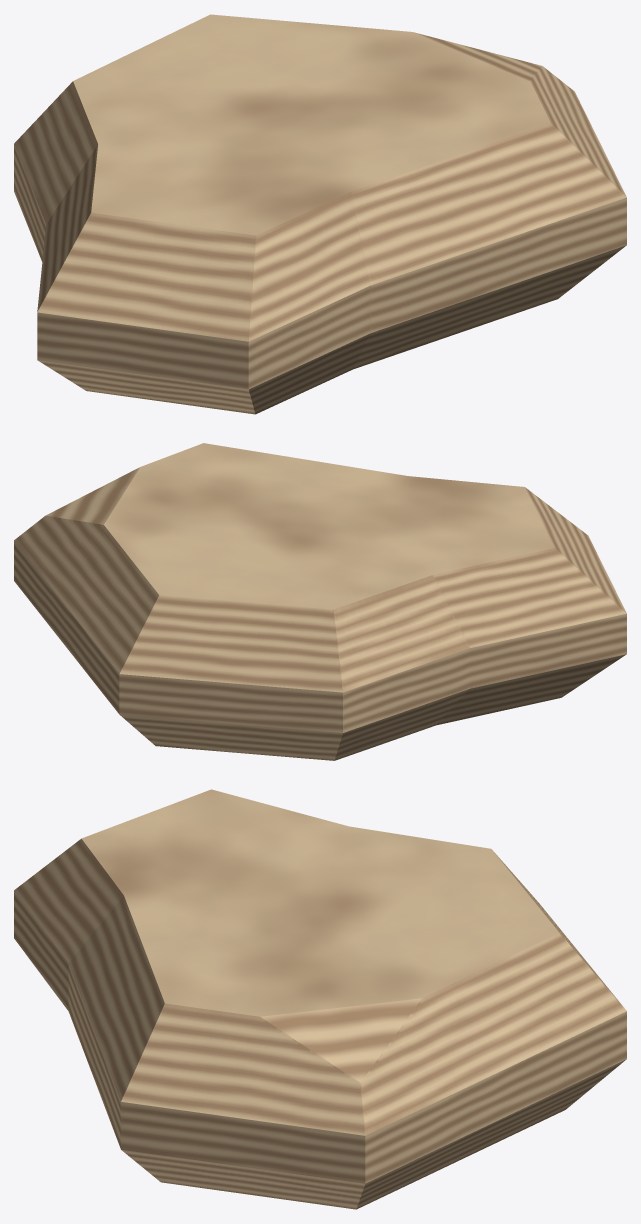
File: boulder.glb
The picture shows the model from 3 angles, top to bottom: view 1: azimuth 30°, elevation 25°; view 2: azimuth 150°, elevation 25°; view 3: azimuth 270°, elevation 25°; orthographic projection. The views are drawn at different scales.
Parts seen in each view (by area): view 1: rock_largeE; view 2: rock_largeE; view 3: rock_largeE.
Boxes of the visible parts, x1,y1,x2,y2 form: rock_largeE: (14, 14, 626, 414); rock_largeE: (14, 443, 626, 760); rock_largeE: (14, 789, 626, 1209).
Size of the model in its own units: 1.1 by 0.2922 by 0.9199.
1 material, 1 textured.
